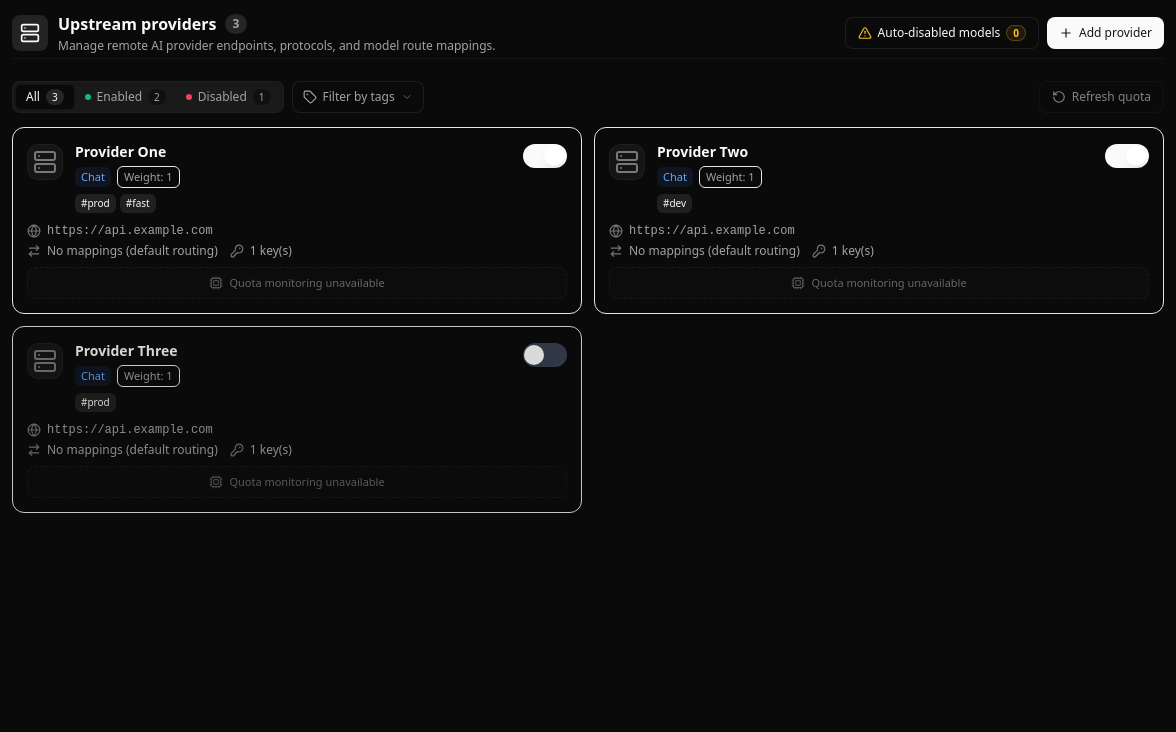
Test: UpstreamProviderList 标签展示与紧凑多选筛选 & 自定义图标 › 存在标签时展示紧凑型下拉触发按钮，支持多选筛选及清除
Check: the element with test id "ai-gateway-provider-p1" is shown, box [12,127,582,314]
Check: the element with test id "ai-gateway-provider-p2" is shown, box [594,127,1164,314]
#  点击展开下拉框
Click the button with test id "ai-gateway-tag-filter-trigger" at (358, 97), box [292,81,424,113]
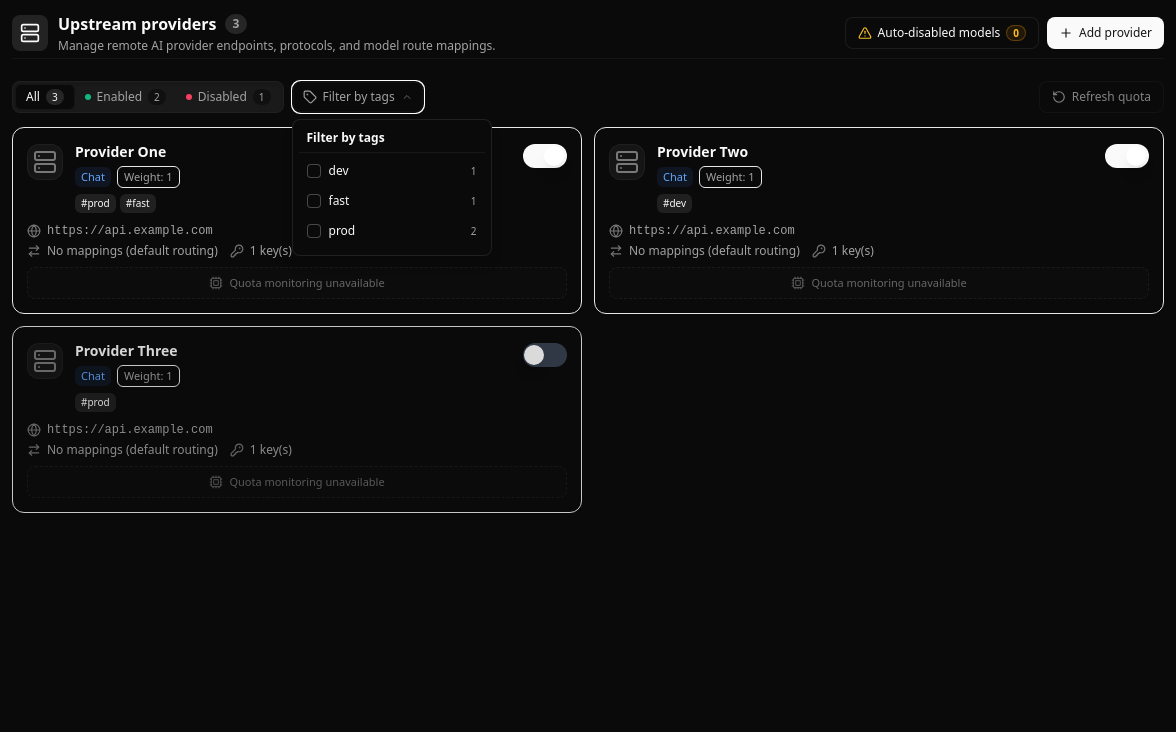
Check: the element with test id "ai-gateway-tag-filter-menu" is shown, box [292,119,492,256]
Check: the button with test id "ai-gateway-tag-option-prod" shows "prod"
Check: the button with test id "ai-gateway-tag-option-prod" shows "2"
#  勾选 prod
Click the button with test id "ai-gateway-tag-option-prod" at (392, 231), box [298,217,484,245]
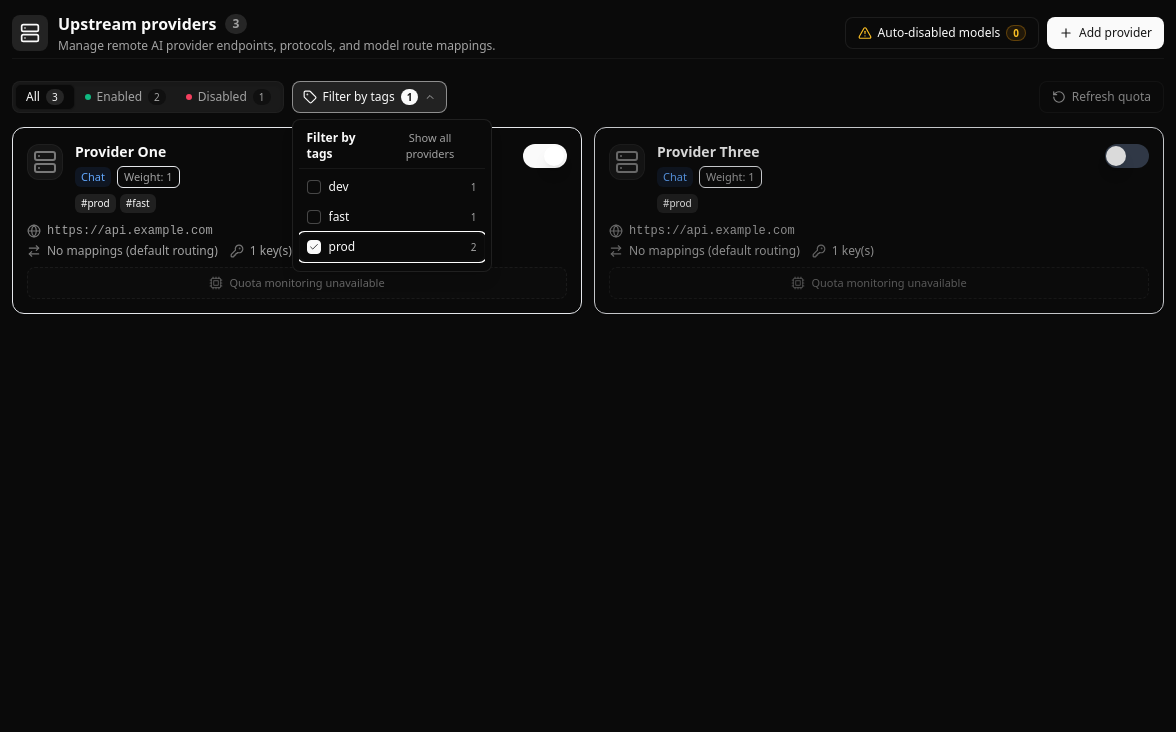
Check: the element with test id "ai-gateway-provider-p1" is shown, box [12,127,582,314]
Check: the text with test id "ai-gateway-tag-filter-badge" reads "1", box [407,90,412,104]
Check: the element with test id "ai-gateway-provider-p2" is gone
# 组合状态筛选：切换为 Enabled
Click the button with test id "filter-status-enabled" at (125, 97), box [75,85,176,109]
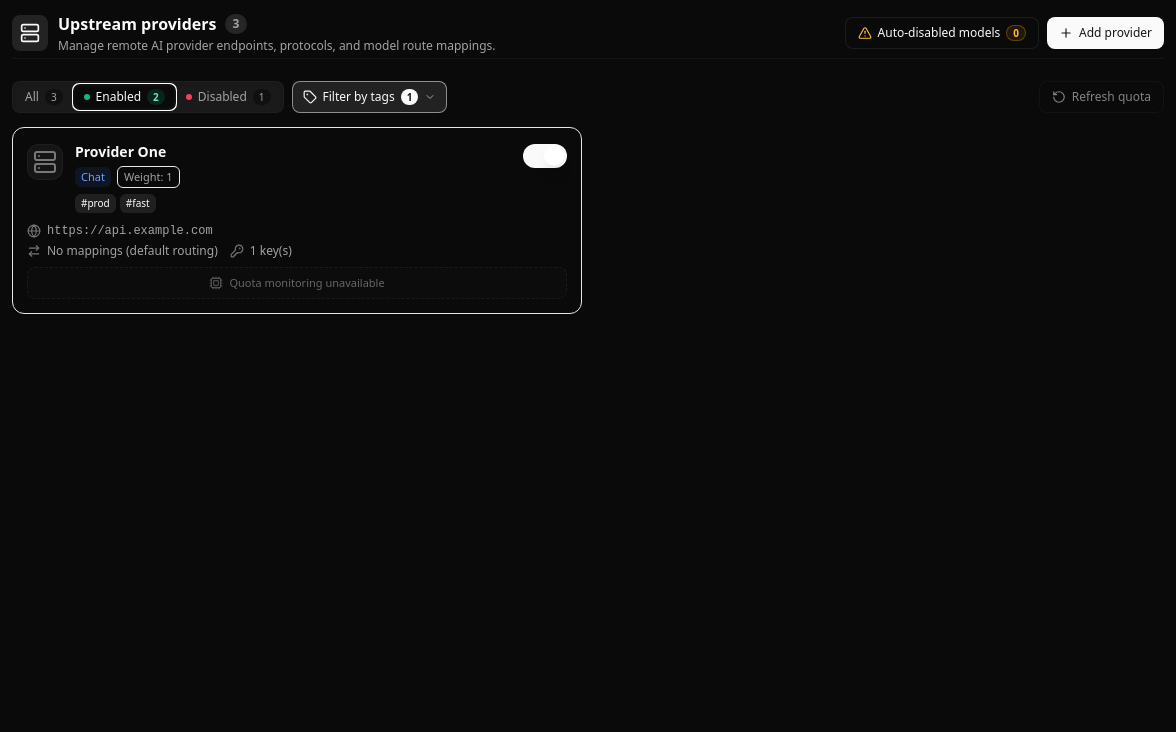
Check: the element with test id "ai-gateway-provider-p1" is shown, box [12,127,582,314]
Check: the element with test id "ai-gateway-provider-p3" is gone
# 再次点击 trigger 打开下拉菜单
Click the button with test id "ai-gateway-tag-filter-trigger" at (369, 97), box [292,81,447,113]
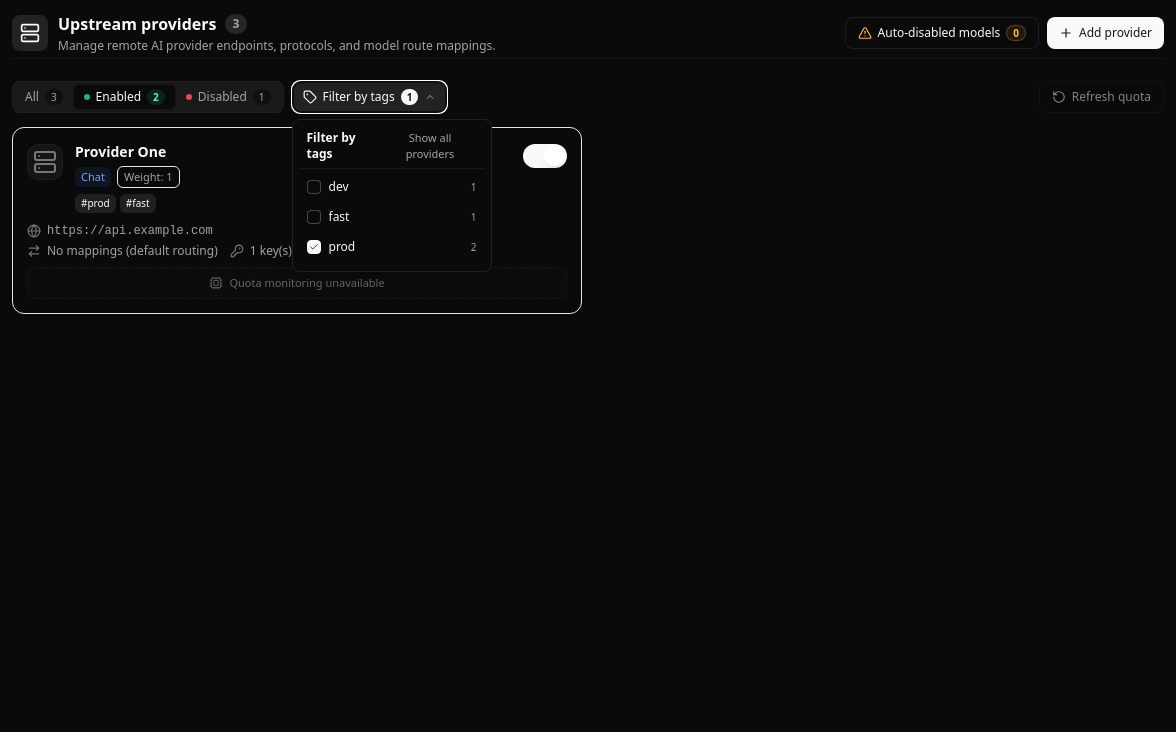
# 在下拉菜单中点击清空标签筛选
Click the button with test id "ai-gateway-tag-filter-clear" at (430, 146), box [384,130,476,162]
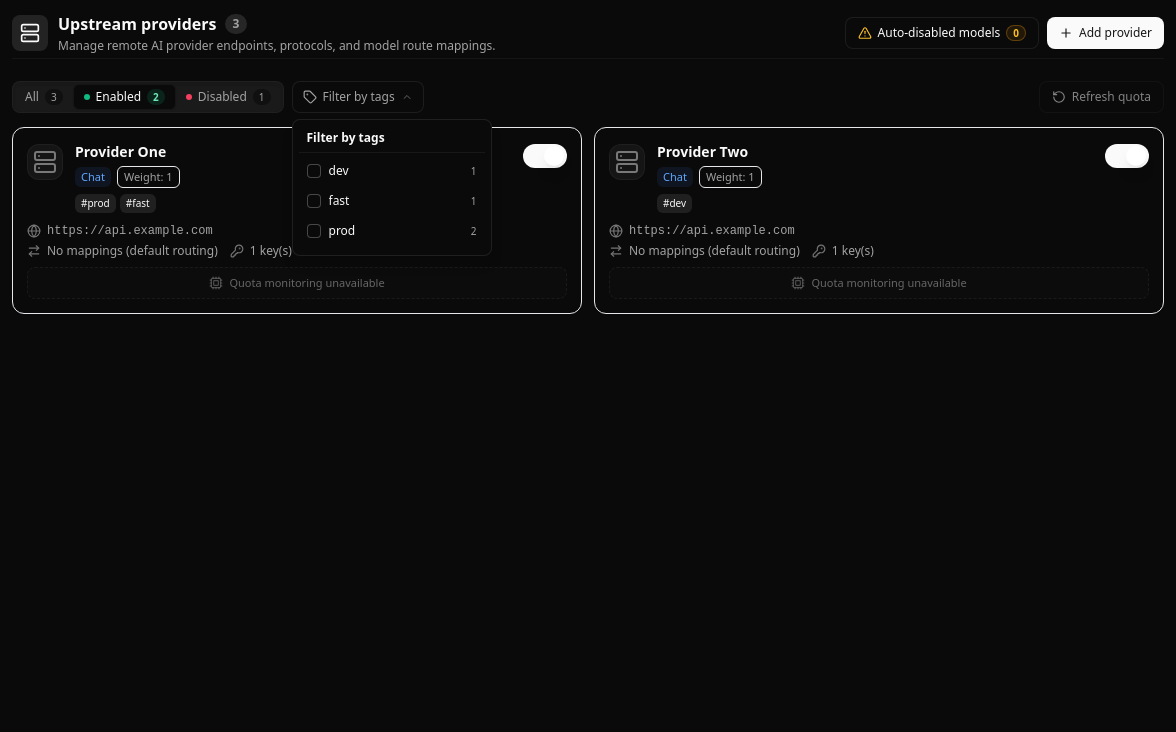
Check: the element with test id "ai-gateway-provider-p1" is shown, box [12,127,582,314]
Check: the element with test id "ai-gateway-provider-p2" is shown, box [594,127,1164,314]
